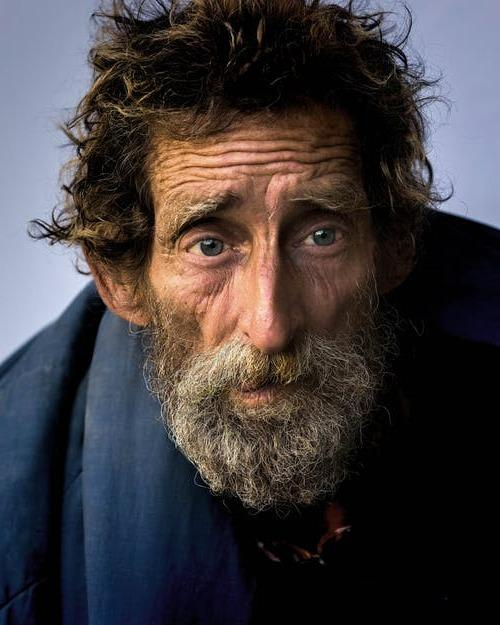Wrinkles: (179, 156, 343, 170), (181, 146, 298, 156), (217, 136, 310, 142), (236, 168, 302, 176), (182, 173, 239, 180), (308, 171, 350, 179), (170, 180, 206, 188), (265, 174, 273, 195), (299, 150, 316, 153)
